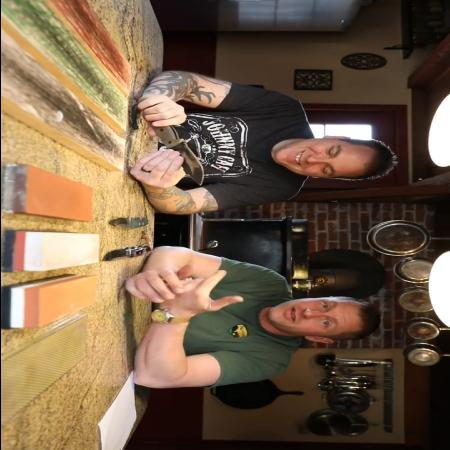long weapon: (156, 130, 212, 192)
